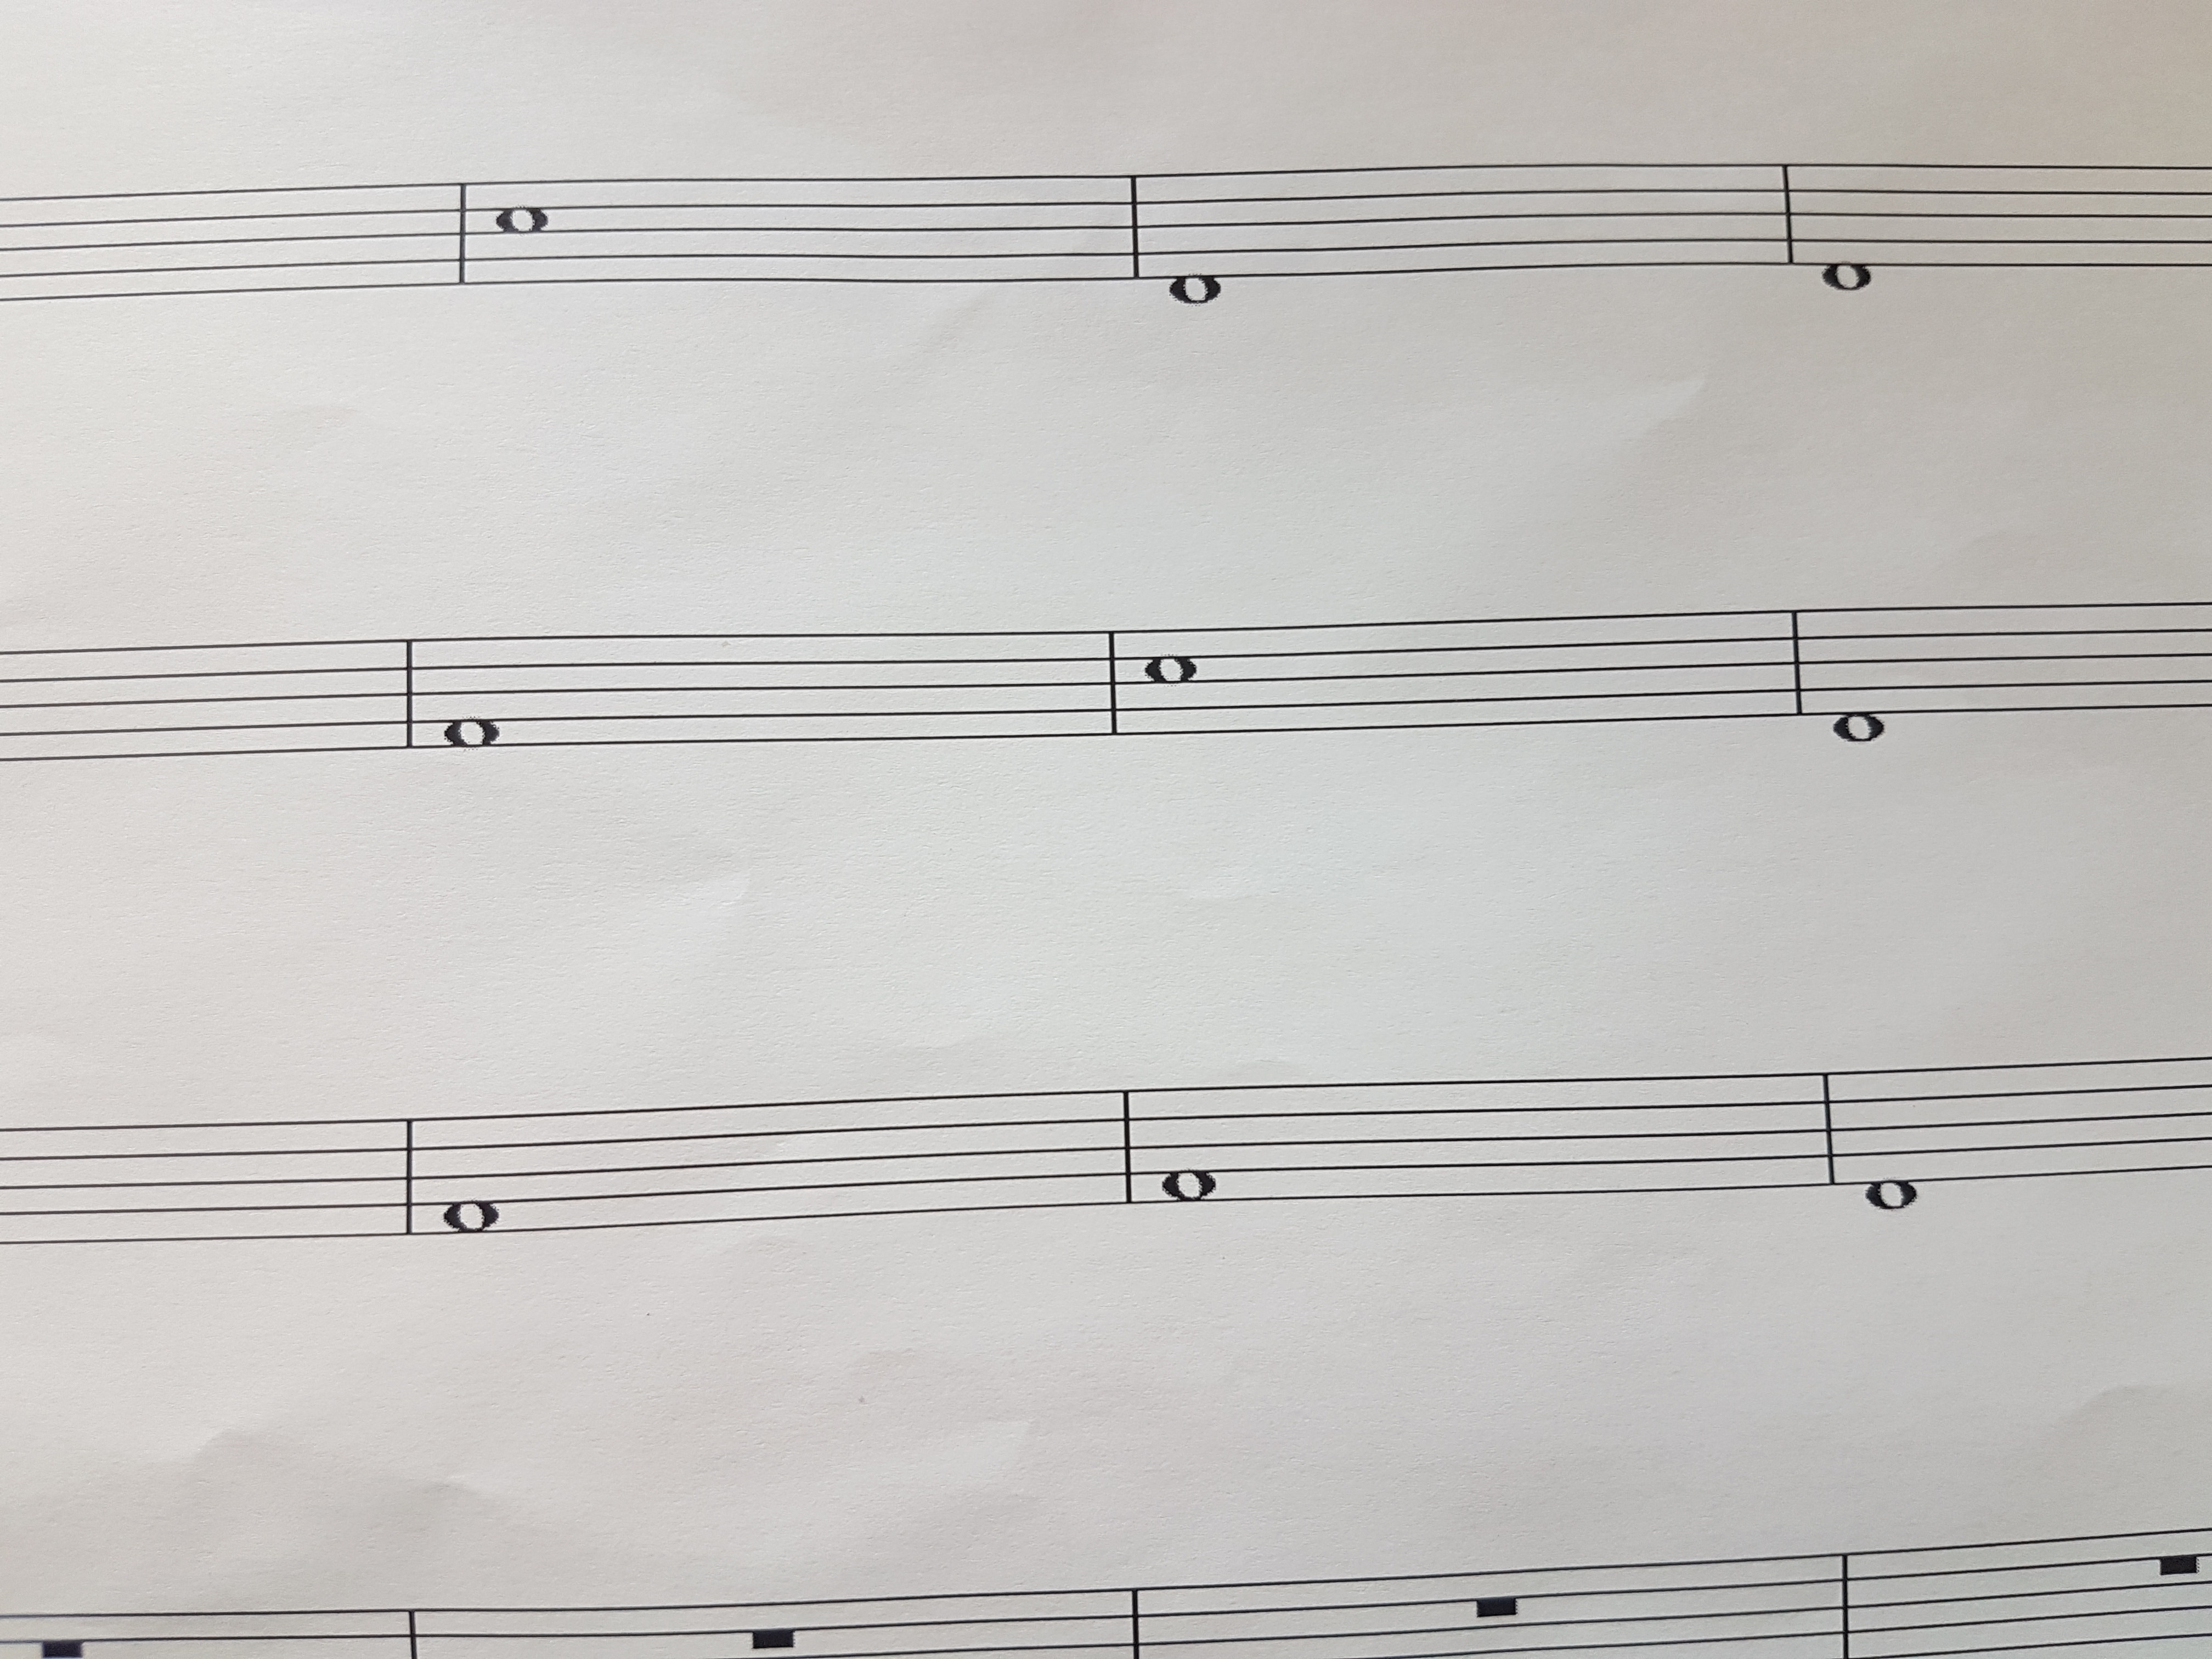pipe: (388, 1103, 425, 1262), (1813, 1056, 1848, 1202), (1096, 610, 1130, 753), (1780, 589, 1811, 734), (1118, 164, 1153, 293), (1770, 146, 1804, 275), (1111, 1075, 1141, 1227), (394, 624, 423, 765), (448, 166, 477, 305)
semibreve_c: (1141, 591, 1202, 758), (491, 157, 557, 308)
semibreve_d: (1820, 582, 1895, 763), (1855, 1046, 1923, 1236), (1160, 143, 1228, 324), (1815, 141, 1883, 312)
semibreve_f: (439, 1093, 505, 1269), (1157, 1054, 1219, 1234), (437, 608, 503, 775)
